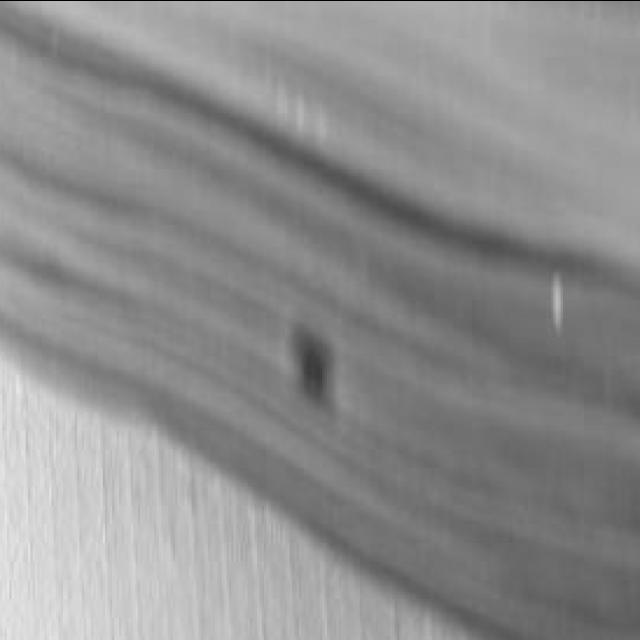Brown_Spot: (246, 304, 372, 446), (524, 262, 582, 351)
